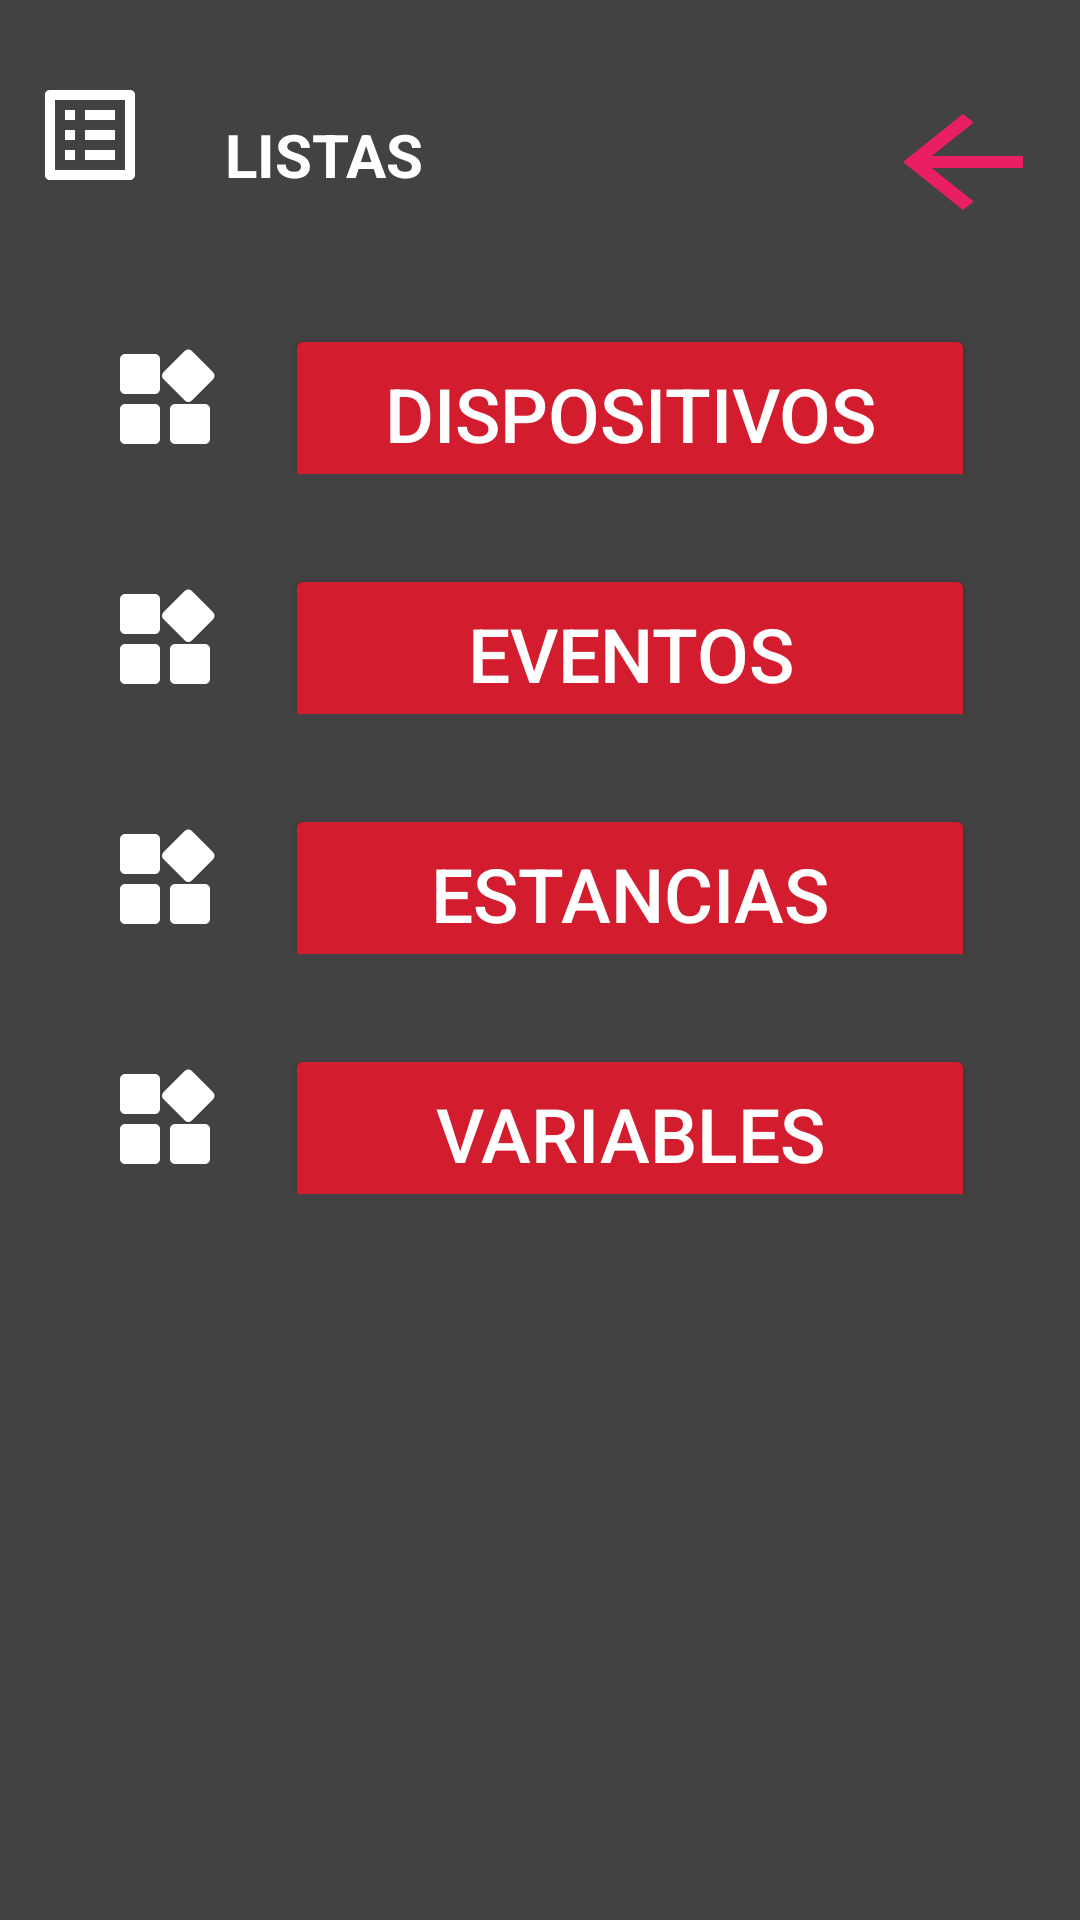

Named icons in this screenshot (1080*1920) and their bounding boxes, bbox=(x1, y1, x2, y2):
arrow back: bbox=(903, 114, 1023, 210)
widgets: bbox=(120, 349, 215, 444), bbox=(120, 589, 215, 684), bbox=(120, 829, 215, 924), bbox=(120, 1069, 215, 1164)
